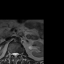CCS_normal: (14, 50, 16, 59)
LFS_normal: (18, 50, 20, 57)
LLS_normal: (16, 50, 18, 57)
RFS_normal: (9, 50, 12, 57)
RLS_normal: (12, 50, 14, 57)
